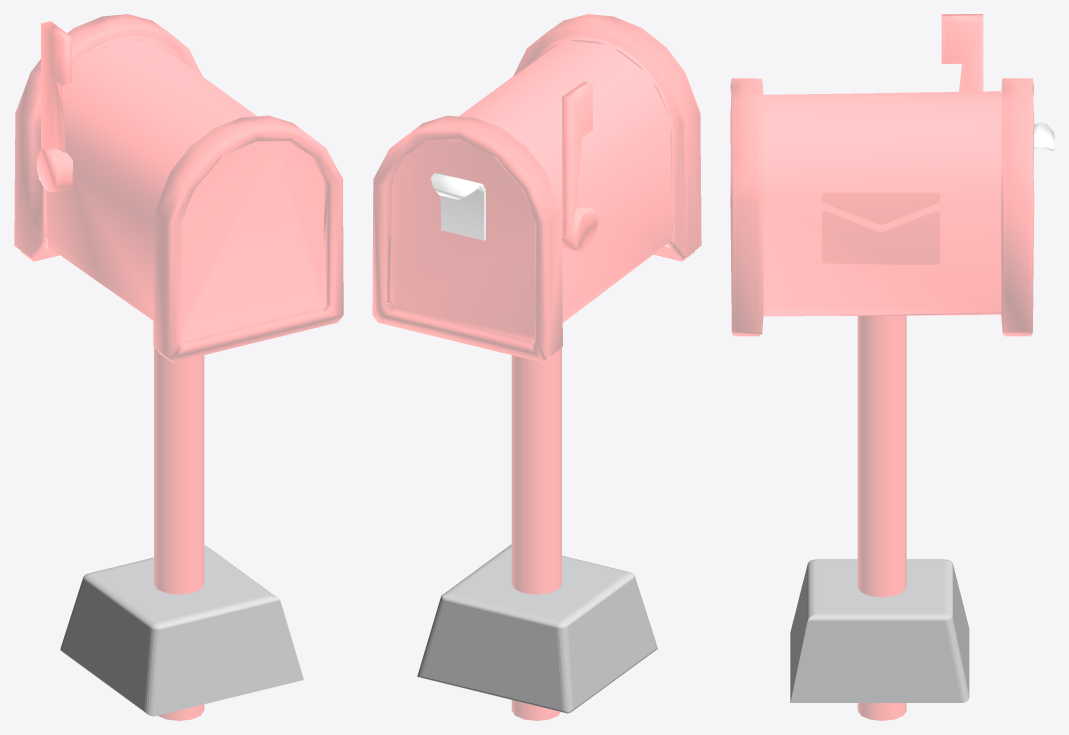
The model's file is mailbox.glb.
3 views of the same model, side by side, from view 1: azimuth 30°, elevation 25°; view 2: azimuth 150°, elevation 25°; view 3: azimuth 270°, elevation 25° (orthographic). The views are drawn at different scales.
Visible parts, largest first — view 1: P1_low, Cube, P2_low, P4_low; view 2: P1_low, Cube, P2_low, P4_low, P3_low; view 3: P1_low, Cube, P2_low, P4_low, P3_low.
Part boxes in pixels (x1=…): P1_low: x1=14, y1=14, x2=343, y2=362; Cube: x1=60, y1=545, x2=303, y2=716; P2_low: x1=154, y1=347, x2=204, y2=720; P4_low: x1=36, y1=21, x2=72, y2=192; P1_low: x1=372, y1=14, x2=701, y2=362; Cube: x1=417, y1=544, x2=657, y2=713; P2_low: x1=511, y1=348, x2=561, y2=720; P4_low: x1=562, y1=81, x2=598, y2=252; P3_low: x1=431, y1=173, x2=485, y2=240; P1_low: x1=730, y1=78, x2=1034, y2=336; Cube: x1=790, y1=559, x2=969, y2=702; P2_low: x1=857, y1=315, x2=906, y2=720; P4_low: x1=941, y1=14, x2=983, y2=91; P3_low: x1=1033, y1=122, x2=1054, y2=150.
Bounding box in the file's own units: 71.93 × 257 × 115.
2 materials, 1 textured.
